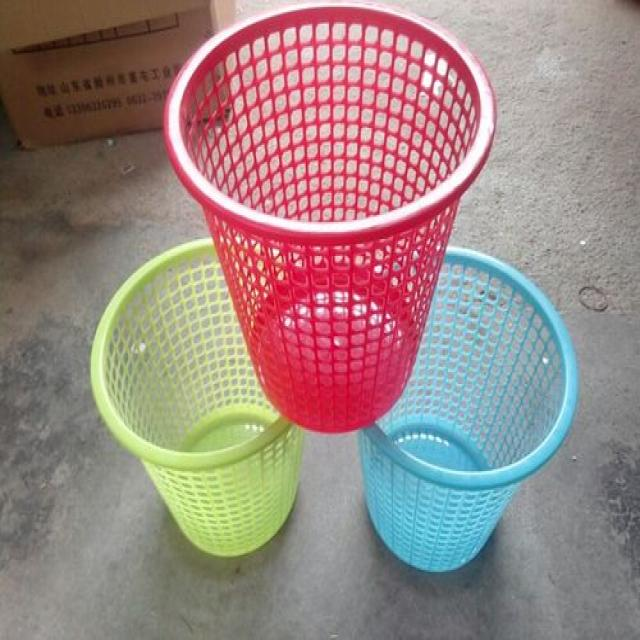Dustbin: (160, 4, 500, 436), (358, 236, 582, 578), (90, 234, 308, 558)
